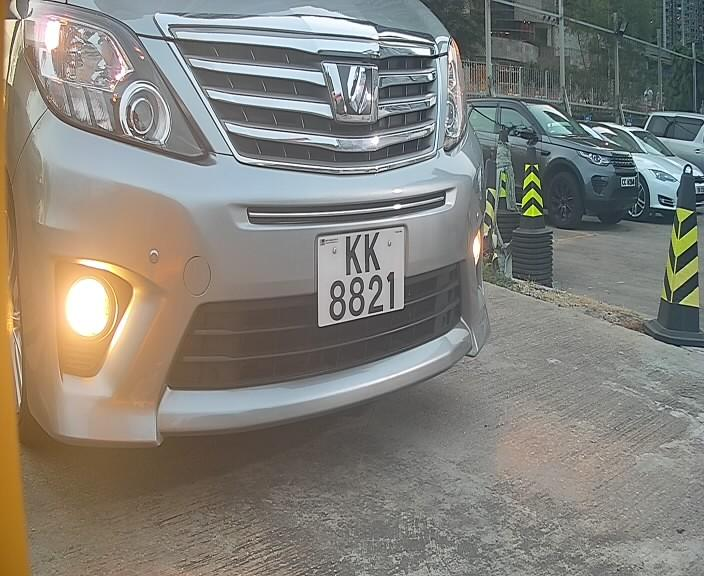License Plate: (305, 217, 409, 335)
